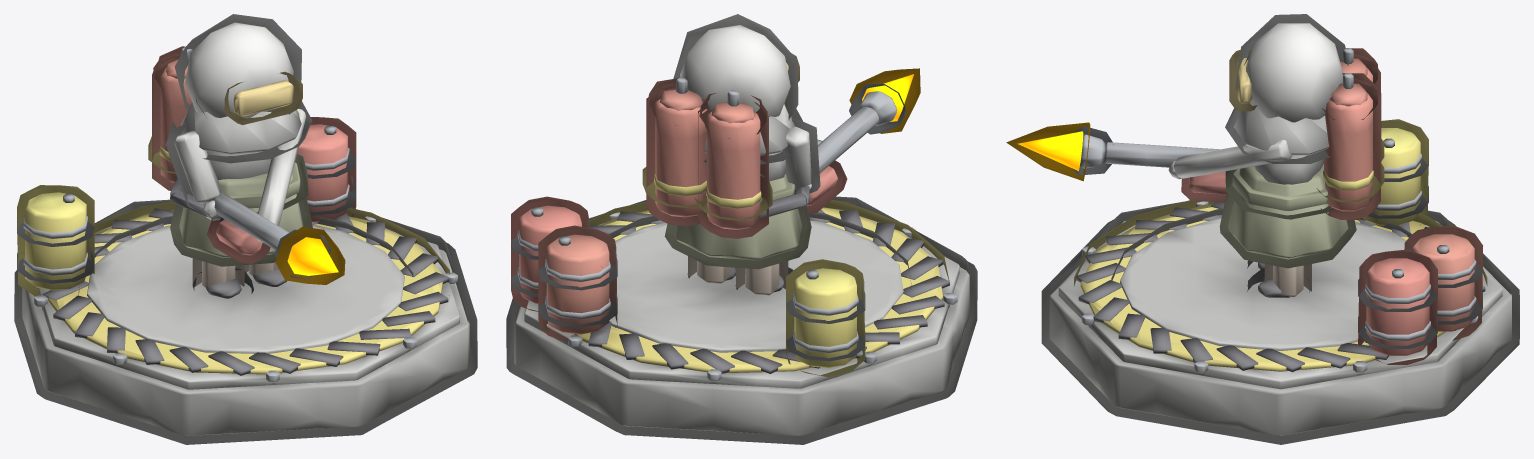
Rendered from flamethrower.glb.
3 renders of one model, left to right at view 1: azimuth 30°, elevation 25°; view 2: azimuth 150°, elevation 25°; view 3: azimuth 270°, elevation 25°, orthographic.
Parts seen in each view (by area): view 1: M_Flamethrower, M_Body, M_Flamethrower_Outline, M_Arm, M_Body_Outline, M_Arm_Outline; view 2: M_Flamethrower, M_Body, M_Flamethrower_Outline, M_Body_Outline, M_Arm, M_Arm_Outline; view 3: M_Flamethrower, M_Body, M_Flamethrower_Outline, M_Body_Outline, M_Arm, M_Arm_Outline.
Part boxes in pixels (<box>): M_Flamethrower: <box>22,124,469,435</box>; M_Body: <box>159,22,303,298</box>; M_Flamethrower_Outline: <box>14,117,477,444</box>; M_Arm: <box>171,108,338,275</box>; M_Body_Outline: <box>148,14,312,293</box>; M_Arm_Outline: <box>165,123,345,284</box>; M_Flamethrower: <box>514,205,969,435</box>; M_Body: <box>654,25,806,295</box>; M_Flamethrower_Outline: <box>506,196,977,444</box>; M_Body_Outline: <box>642,14,811,289</box>; M_Arm: <box>782,74,913,209</box>; M_Arm_Outline: <box>790,68,920,214</box>; M_Flamethrower: <box>1049,128,1511,435</box>; M_Body: <box>1228,23,1373,297</box>; M_Flamethrower_Outline: <box>1041,119,1519,444</box>; M_Body_Outline: <box>1219,14,1384,292</box>; M_Arm: <box>1017,131,1292,194</box>; M_Arm_Outline: <box>1006,122,1233,202</box>.
Bounding box in the file's own units: 3.18 × 2.41 × 3.42.
